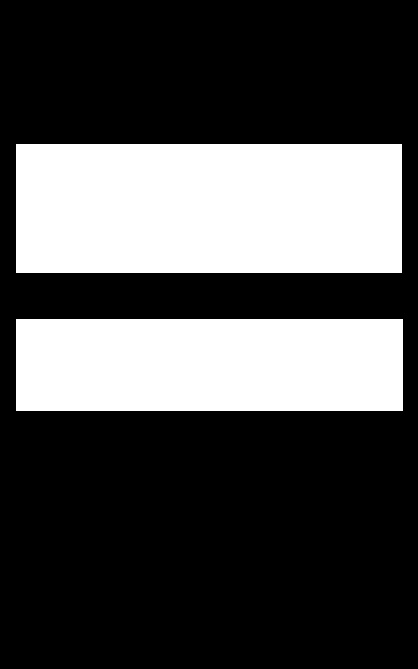table: (16, 144, 401, 272), (16, 319, 402, 410)
